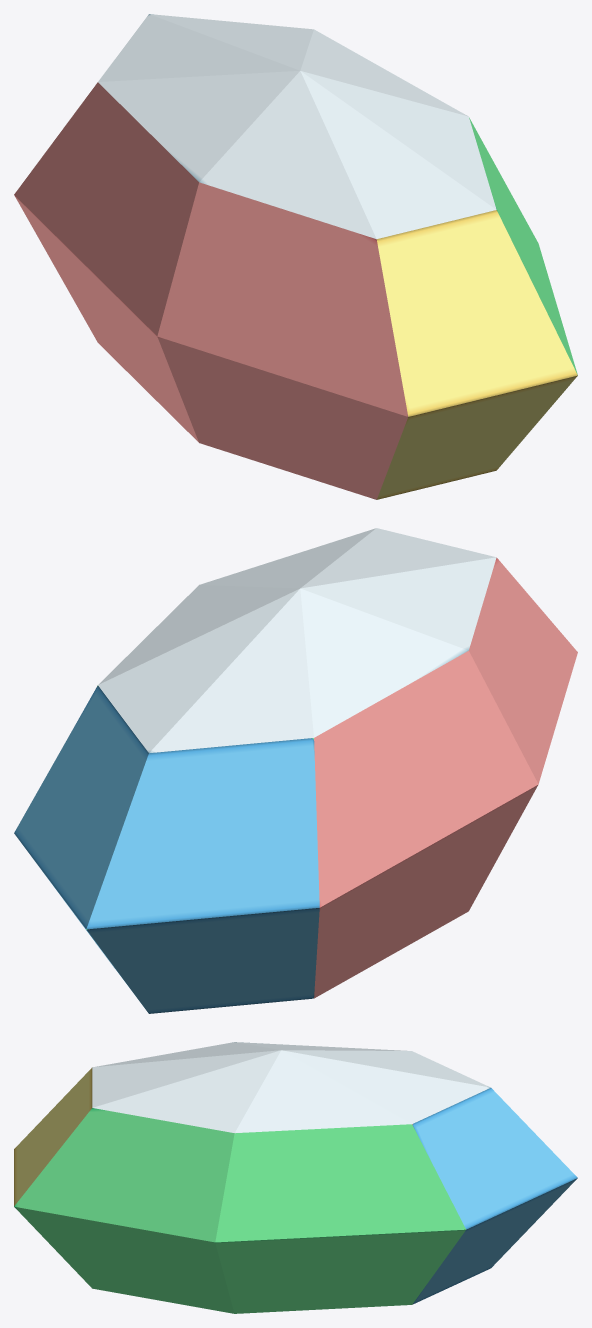
The model's file is ice.fbx.
The picture shows the model from 3 angles, top to bottom: view 1: azimuth 30°, elevation 25°; view 2: azimuth 150°, elevation 25°; view 3: azimuth 270°, elevation 25°; orthographic projection. The views are drawn at different scales.
Visible parts, largest first — view 1: sphere; view 2: sphere; view 3: sphere.
Part boxes in pixels (x1=…): sphere: x1=14, y1=14, x2=577, y2=499; sphere: x1=14, y1=528, x2=577, y2=1013; sphere: x1=14, y1=1042, x2=577, y2=1313.
Bounding box in the file's own units: 20.29 × 18.75 × 37.5.
Materials: 1 (1 with a texture image).
